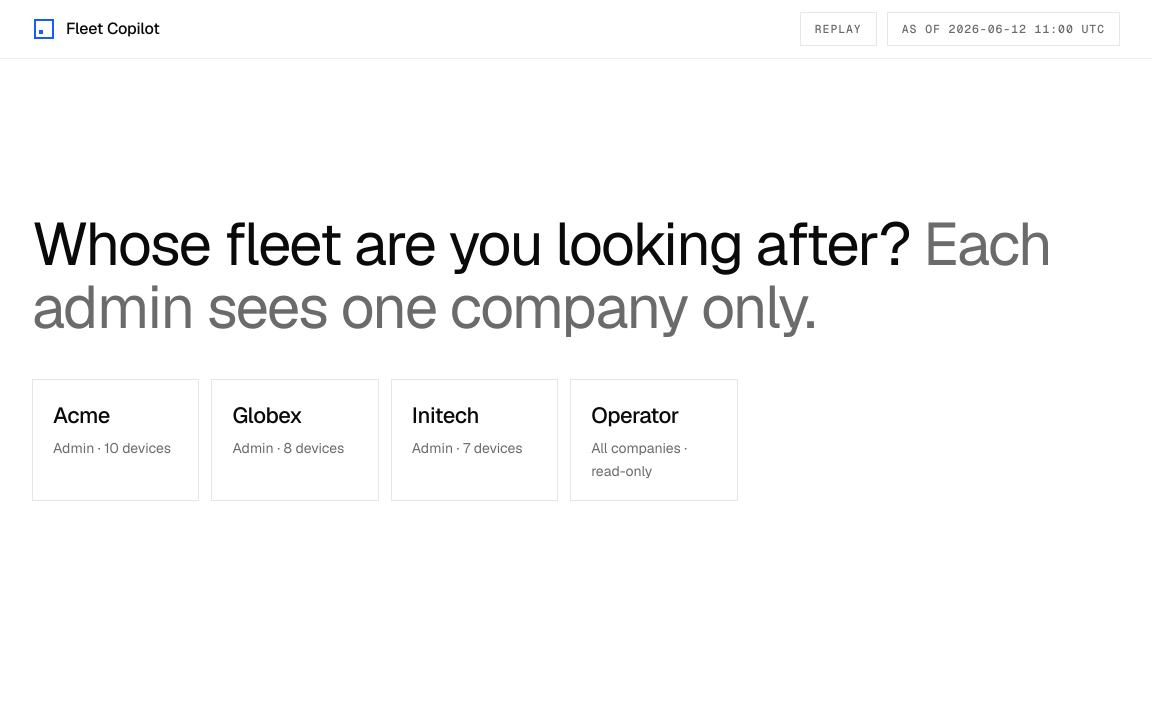
it: sign-in and company boundary › offers the three demo companies and shows the chosen one as a read-only badge
expect the button "Acme Admin · 10 devices" is shown: met, box [32, 379, 199, 501]
expect the button "Initech Admin · 7 devices" is shown: met, box [391, 379, 558, 501]
Step 1. Click the button "Globex Admin · 8 devices" → (295, 440), box [211, 379, 379, 501]
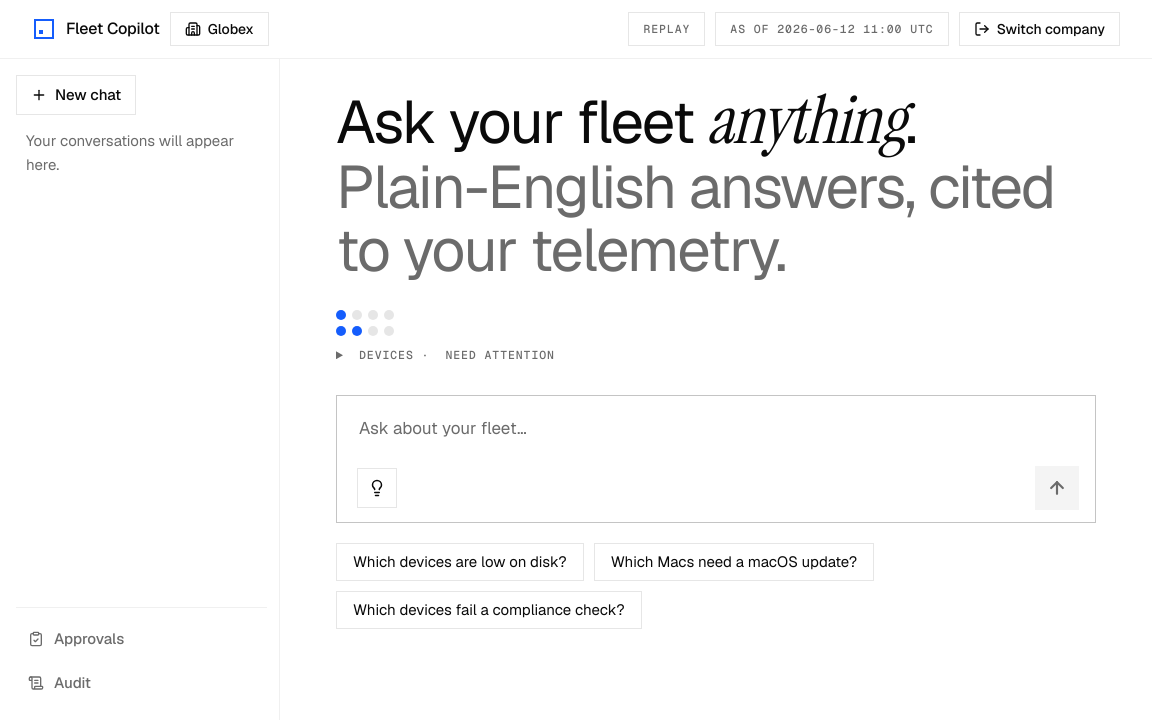
expect the element named "Company: Globex" is shown: met, box [170, 12, 269, 46]
expect the heading "Ask your fleet anything." is shown: met, box [336, 82, 916, 160]
